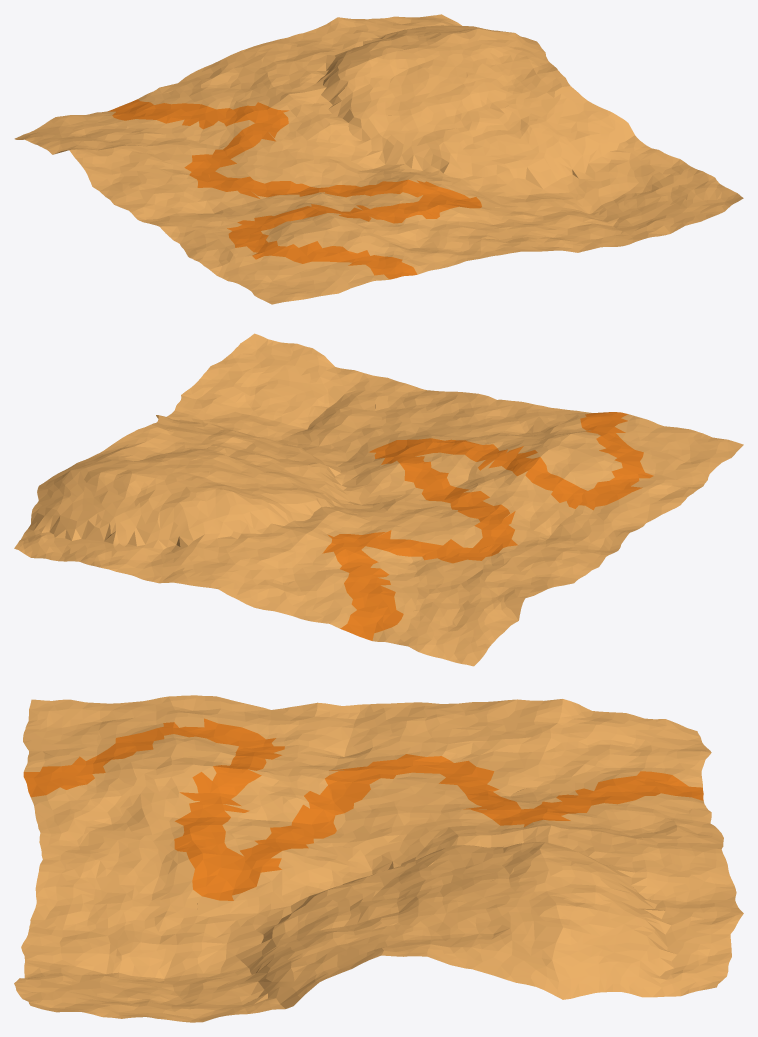
File: desert terrain.fbx
3 renders of one model, top to bottom at view 1: azimuth 30°, elevation 25°; view 2: azimuth 150°, elevation 25°; view 3: azimuth 270°, elevation 25°, orthographic. The views are drawn at different scales.
Visible parts, largest first — view 1: Environment_1; view 2: Environment_1; view 3: Environment_1.
Boxes of the visible parts, x1=… form: Environment_1: x1=14, y1=14, x2=743, y2=304; Environment_1: x1=14, y1=333, x2=743, y2=666; Environment_1: x1=14, y1=695, x2=743, y2=1022.
Bounding box in the file's own units: 2142 × 275 × 2155.
